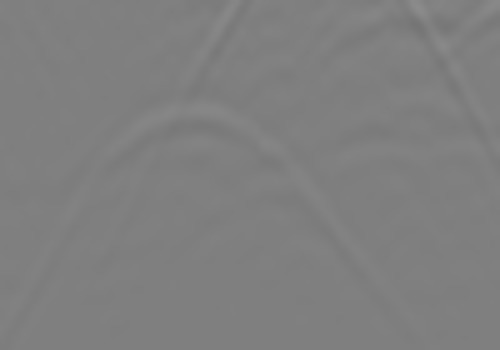hyperbola: (58, 101, 390, 289)
